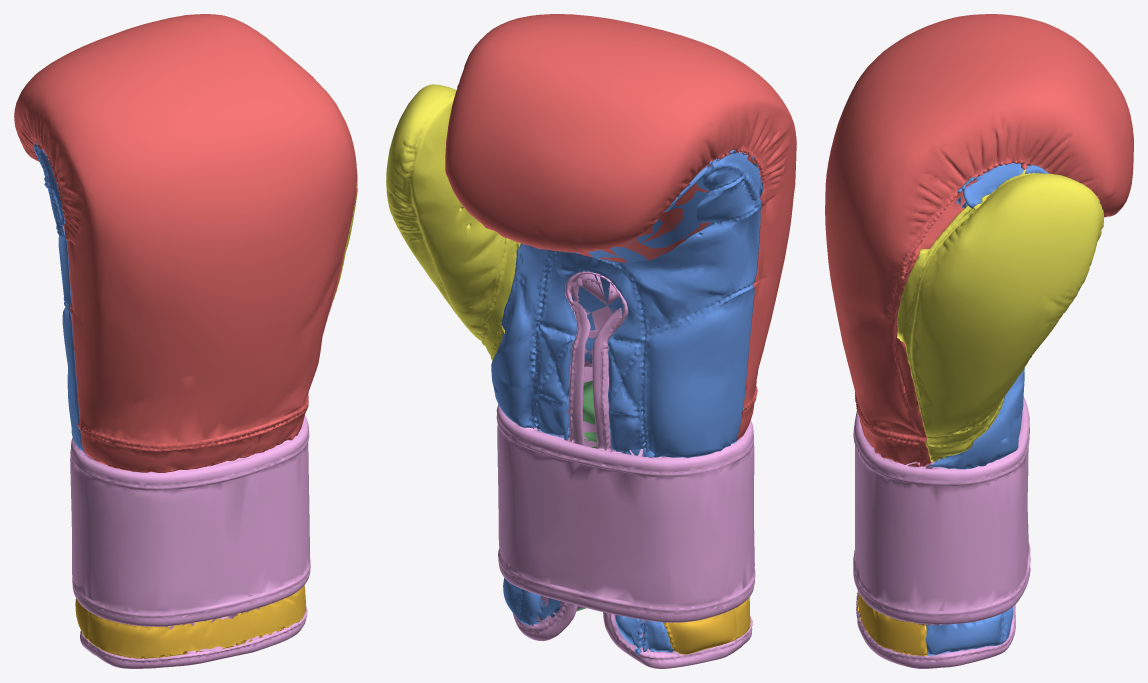
Rendered from fm-glove-velcro.glb.
3 renders of one model, left to right at view 1: azimuth 30°, elevation 25°; view 2: azimuth 150°, elevation 25°; view 3: azimuth 270°, elevation 25°, orthographic. The views are drawn at different scales.
Parts seen in each view (by area): view 1: front-panel, wrist, piping, back-panel; view 2: front-panel, back-panel, wrist, thumb, piping, palm; view 3: front-panel, thumb, wrist, back-panel, piping.
Boxes of the visible parts, x1,y1,x2,y2 form: front-panel: (14, 14, 357, 472); wrist: (70, 416, 310, 668); piping: (75, 585, 305, 658); back-panel: (34, 142, 86, 455); front-panel: (445, 14, 796, 440); back-panel: (491, 150, 763, 654); wrist: (496, 271, 755, 668); thumb: (386, 84, 520, 360); piping: (663, 597, 750, 654); palm: (576, 380, 597, 611); front-panel: (825, 14, 1133, 466); thumb: (897, 169, 1103, 461); wrist: (853, 397, 1030, 668); back-panel: (925, 162, 1048, 655); piping: (857, 593, 927, 656).
Size of the model in its own units: 0.0677 by 0.12 by 0.0583.
